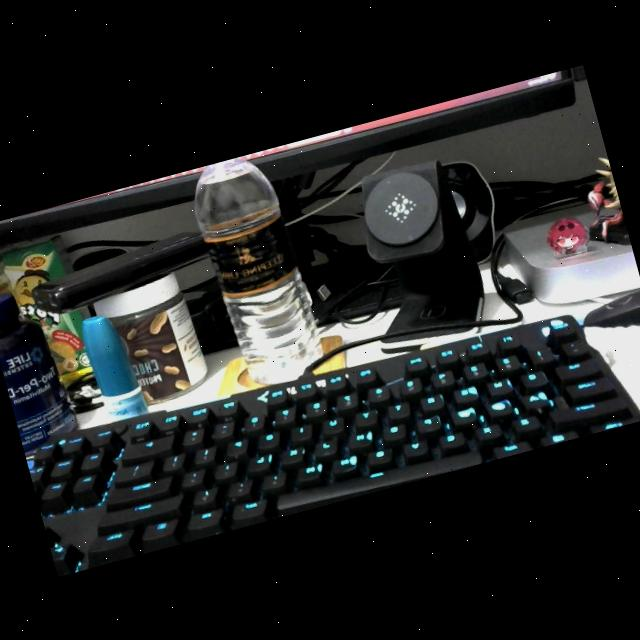trash: (180, 147, 330, 393)
